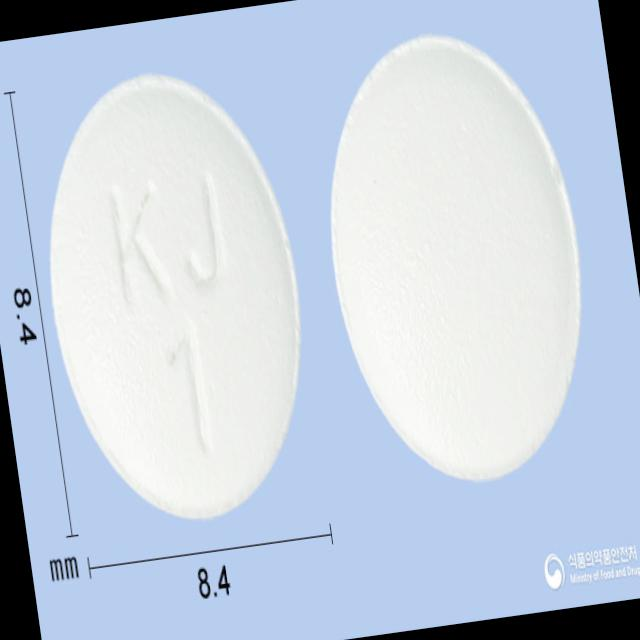Levocacin: (22, 56, 329, 536)
